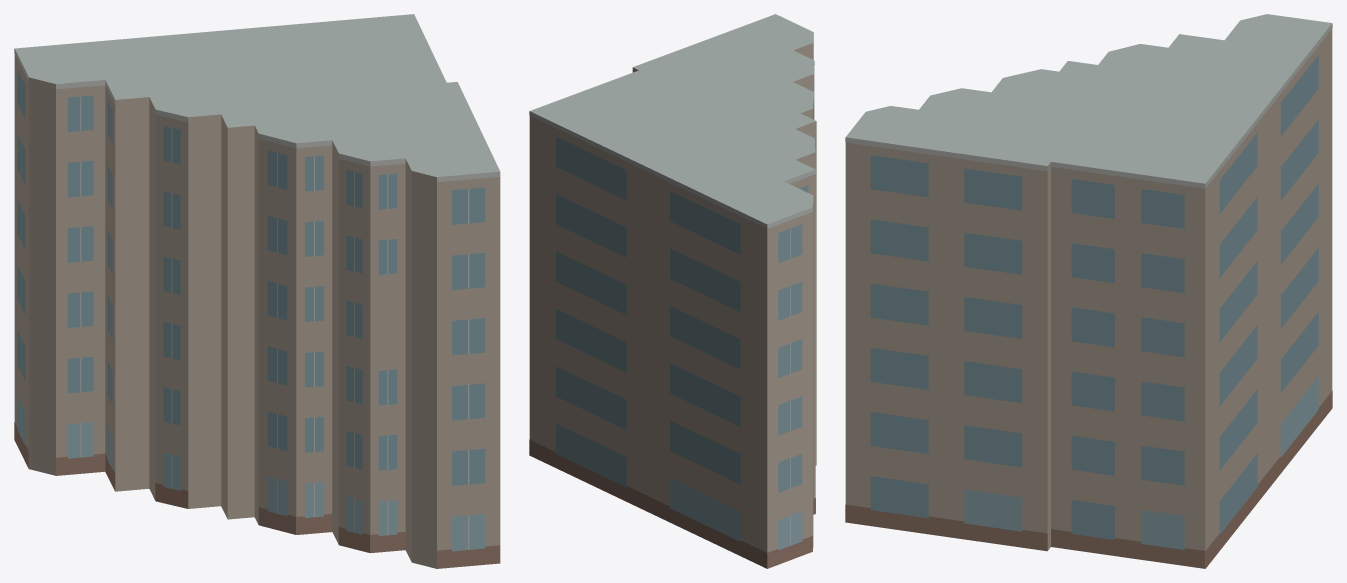
Rendered from survey-upis-32529552.glb.
The picture shows the model from 3 angles, left to right: view 1: azimuth 30°, elevation 25°; view 2: azimuth 150°, elevation 25°; view 3: azimuth 270°, elevation 25°; orthographic projection. The views are drawn at different scales.
Visible parts, largest first — view 1: survey-upis-32529552.tmp; view 2: survey-upis-32529552.tmp; view 3: survey-upis-32529552.tmp.
Part boxes in pixels (x1,y1,x2,y2): survey-upis-32529552.tmp: (14,14,500,568); survey-upis-32529552.tmp: (529,14,816,568); survey-upis-32529552.tmp: (845,14,1332,568).
Bounding box in the file's own units: 17.59 × 18.6 × 21.33.
